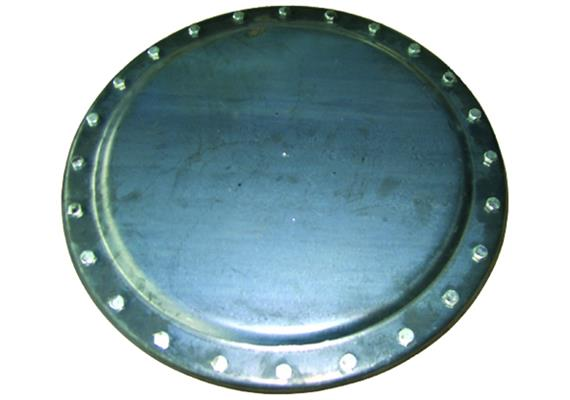bolt: (441, 289, 461, 310), (470, 243, 490, 264), (397, 328, 416, 348), (108, 294, 127, 312), (483, 197, 502, 215), (67, 203, 87, 220), (78, 251, 99, 267), (406, 42, 424, 58), (147, 46, 163, 64), (69, 155, 87, 171), (482, 151, 499, 167), (185, 26, 202, 42), (440, 72, 456, 88), (111, 77, 128, 92), (86, 112, 101, 129), (364, 22, 382, 36), (467, 108, 482, 123), (232, 12, 247, 25), (323, 11, 337, 23), (277, 7, 291, 18)
hole: (338, 351, 360, 375), (274, 360, 296, 381), (152, 329, 173, 350), (212, 354, 232, 375)
